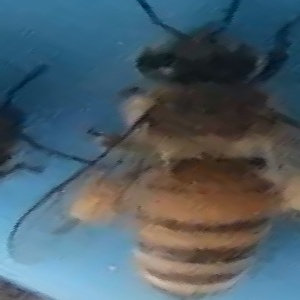bee: (68, 11, 297, 298), (2, 59, 88, 180)
